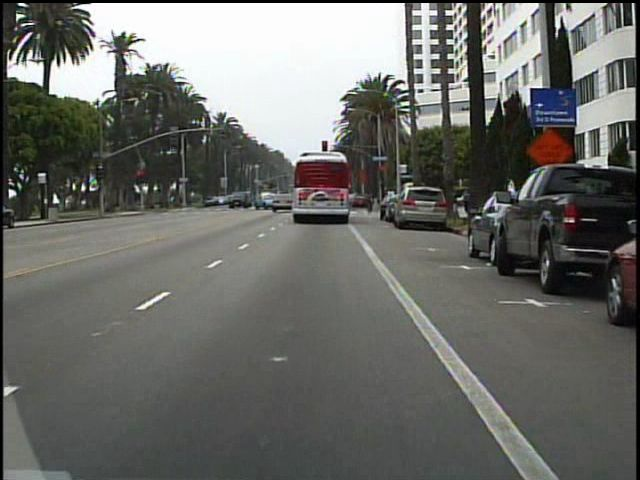person: (458, 185, 473, 219)
